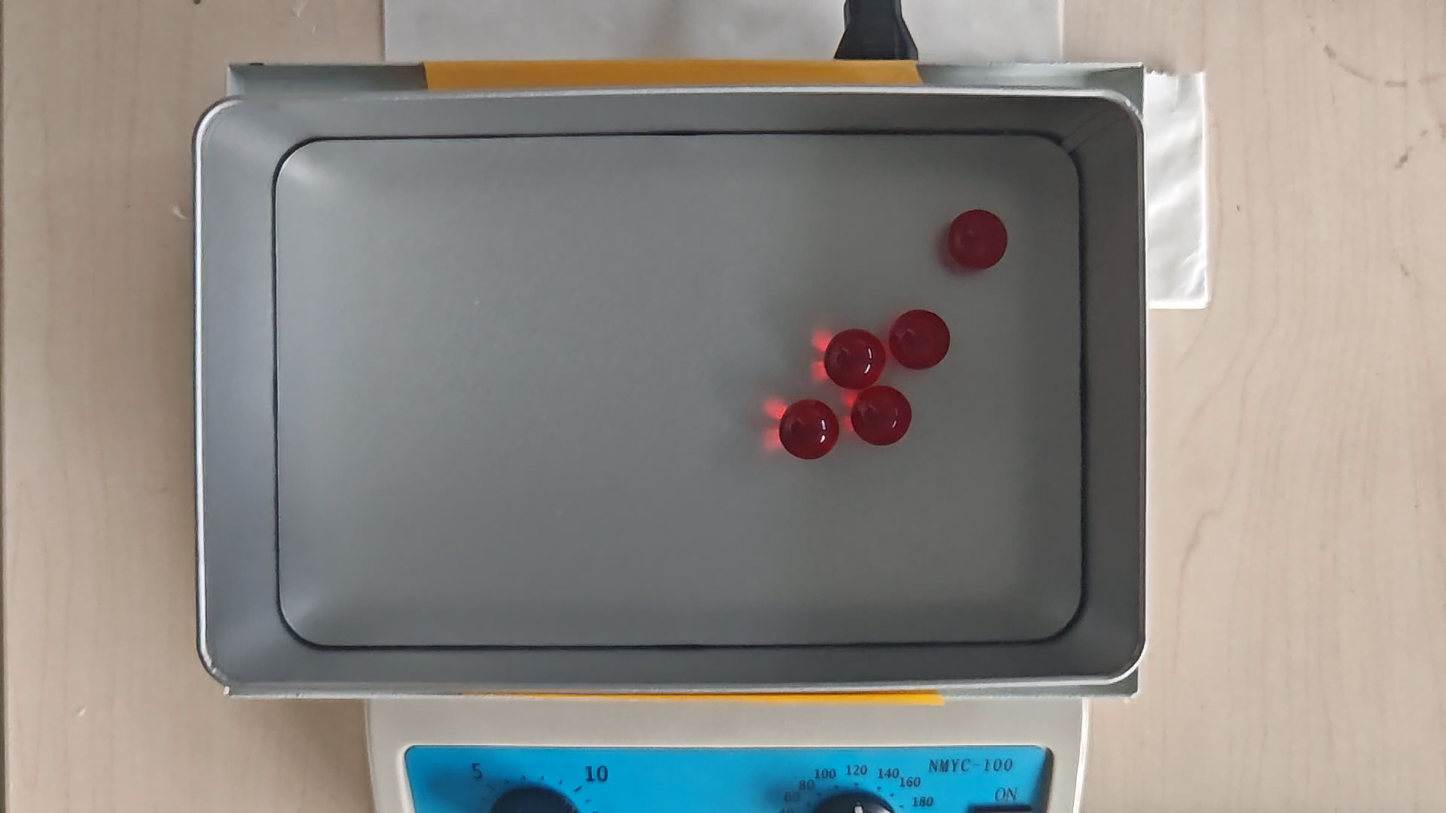ball: (781, 397, 840, 460), (892, 308, 949, 371), (827, 328, 884, 391), (947, 210, 1006, 269), (853, 388, 913, 446)
container: (273, 129, 1086, 649)
